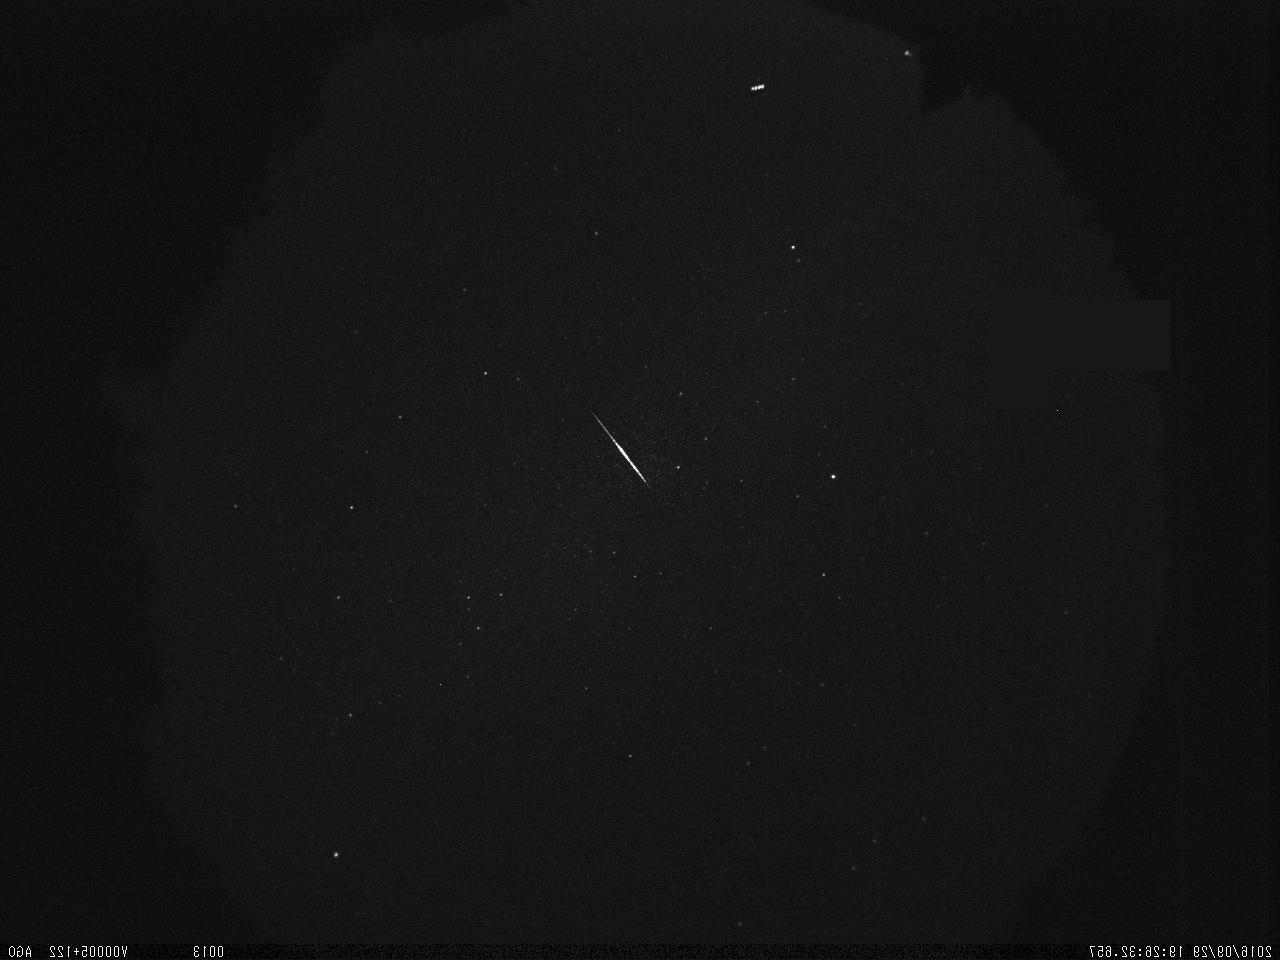meteor: (580, 396, 671, 493)
